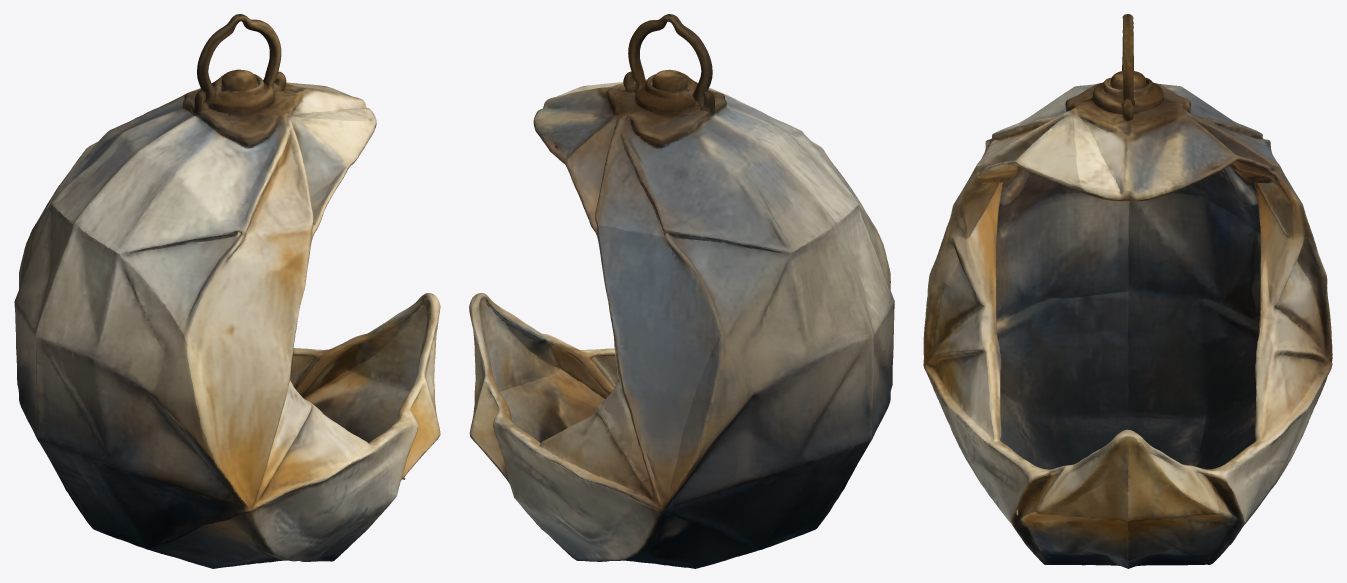
Rendered from paper-moon-lantern.glb.
3 renders of one model, left to right at view 1: azimuth 30°, elevation 25°; view 2: azimuth 150°, elevation 25°; view 3: azimuth 270°, elevation 25°, orthographic.
Visible parts, largest first — view 1: world; view 2: world; view 3: world.
Part boxes in pixels (left/top/right/bottom): world: left=14, top=14, right=440, bottom=568; world: left=469, top=14, right=894, bottom=568; world: left=923, top=14, right=1332, bottom=568.
Bounding box in the file's own units: 0.2755 × 0.35 × 0.2464.
Materials: 1 (1 with a texture image).
